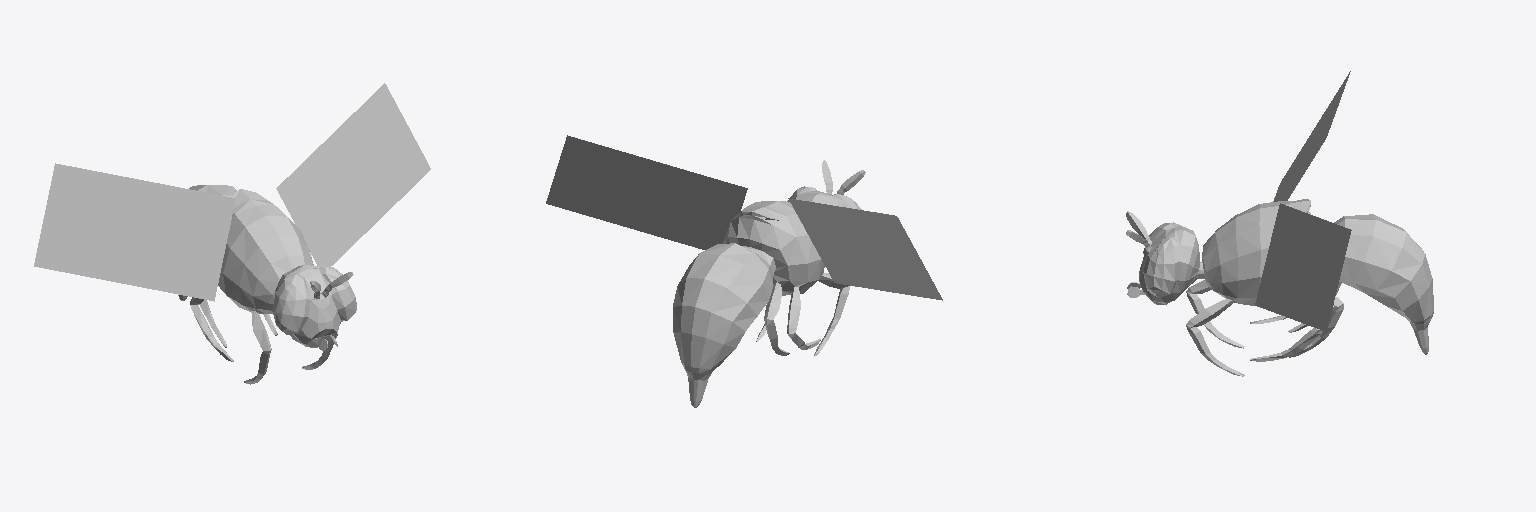
The model's file is MODEL_fruitfly_1.obj.
3 renders of one model, left to right at view 1: azimuth 30°, elevation 25°; view 2: azimuth 150°, elevation 25°; view 3: azimuth 270°, elevation 25°, orthographic.
Visible parts, largest first — view 1: wing, fly_low; view 2: wing, fly_low; view 3: fly_low, wing.
Boxes of the visible parts, <box> form: wing: <box>34,83,430,301</box>; fly_low: <box>178,185,356,384</box>; wing: <box>546,135,942,300</box>; fly_low: <box>673,160,865,407</box>; fly_low: <box>1126,199,1433,376</box>; wing: <box>1255,71,1351,331</box>.
Size of the model in its own units: 9.28 by 4.76 by 6.24.